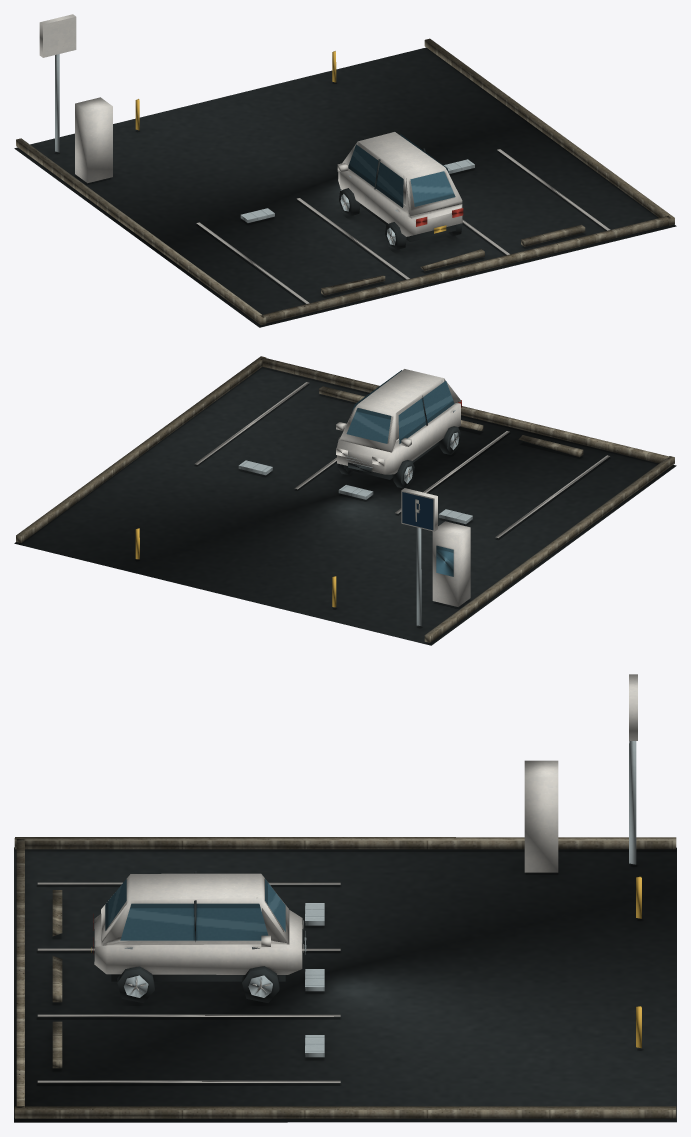
The model's file is parking_001.obj.
3 renders of one model, top to bottom at view 1: azimuth 30°, elevation 25°; view 2: azimuth 150°, elevation 25°; view 3: azimuth 270°, elevation 25°, orthographic. The views are drawn at different scales.
Parts seen in each view (by area): view 1: parking_001; view 2: parking_001; view 3: parking_001.
Boxes of the visible parts, <box> form: parking_001: <box>14,14,676,327</box>; parking_001: <box>14,356,676,645</box>; parking_001: <box>14,674,676,1122</box>.
Size of the model in its own units: 10.6 by 3.25 by 10.8.
1 material, 1 textured.
